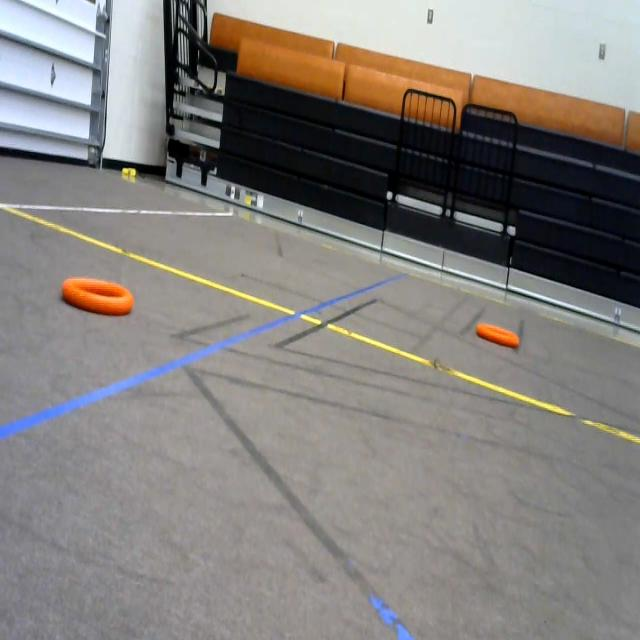note: (62, 274, 136, 325), (466, 314, 526, 352)
